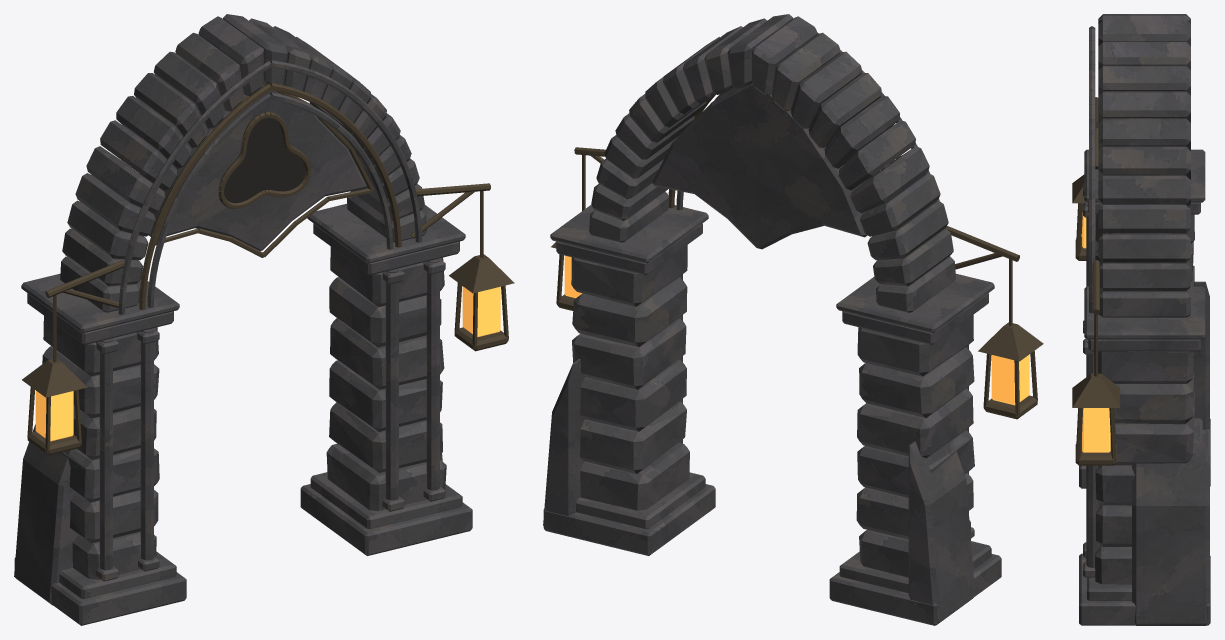
The model's file is amber-arch.glb.
3 views of the same model, side by side, from view 1: azimuth 30°, elevation 25°; view 2: azimuth 150°, elevation 25°; view 3: azimuth 270°, elevation 25° (orthographic).
Parts seen in each view (by area): view 1: amber-arch; view 2: amber-arch; view 3: amber-arch.
Boxes of the visible parts, <box> form: amber-arch: <box>14,14,514,625</box>; amber-arch: <box>543,14,1043,625</box>; amber-arch: <box>1072,14,1210,625</box>.
Size of the model in its own units: 5.05 by 5.4 by 1.31.
7 materials, 4 textured.
